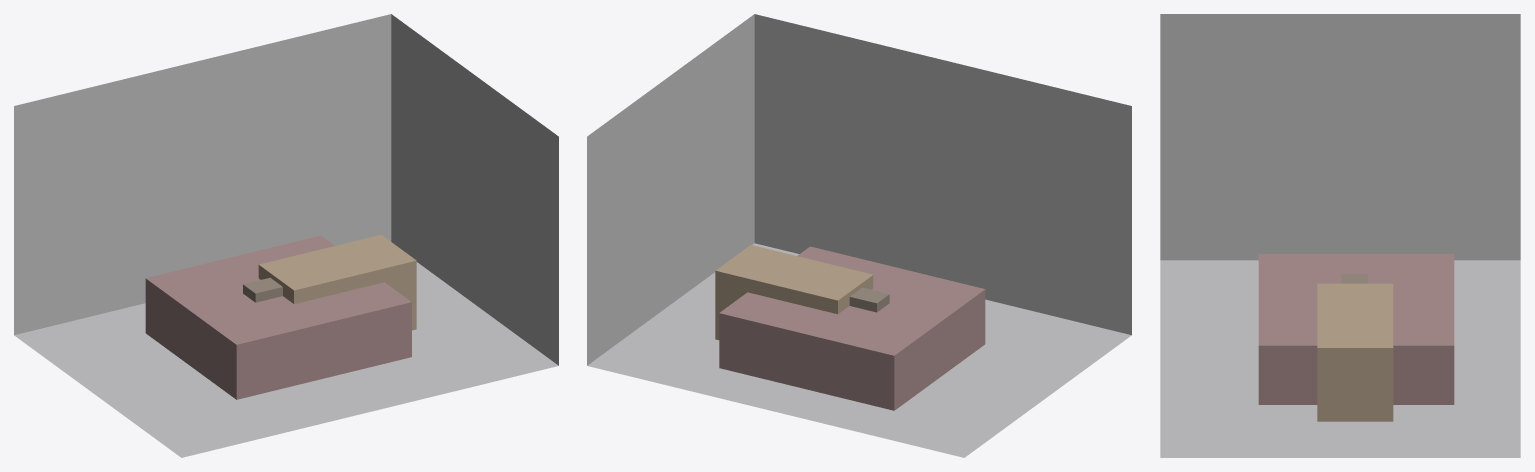
File: current_layout.glb
The picture shows the model from 3 angles, left to right: view 1: azimuth 30°, elevation 25°; view 2: azimuth 150°, elevation 25°; view 3: azimuth 270°, elevation 25°; orthographic projection. The views are drawn at different scales.
Visible parts, largest first — view 1: room, bed, desk, suitcase; view 2: room, bed, desk, suitcase; view 3: room, bed, desk.
Boxes of the visible parts, <box> form: room: <box>14,14,558,457</box>; bed: <box>145,235,411,399</box>; desk: <box>258,234,416,330</box>; suitcase: <box>243,277,282,302</box>; room: <box>587,14,1131,457</box>; bed: <box>719,246,985,410</box>; desk: <box>715,245,873,340</box>; suitcase: <box>849,287,889,312</box>; room: <box>1160,14,1520,457</box>; bed: <box>1258,254,1454,404</box>; desk: <box>1317,283,1393,421</box>.
Bounding box in the file's own units: 4.31 × 2.5 × 3.31.
